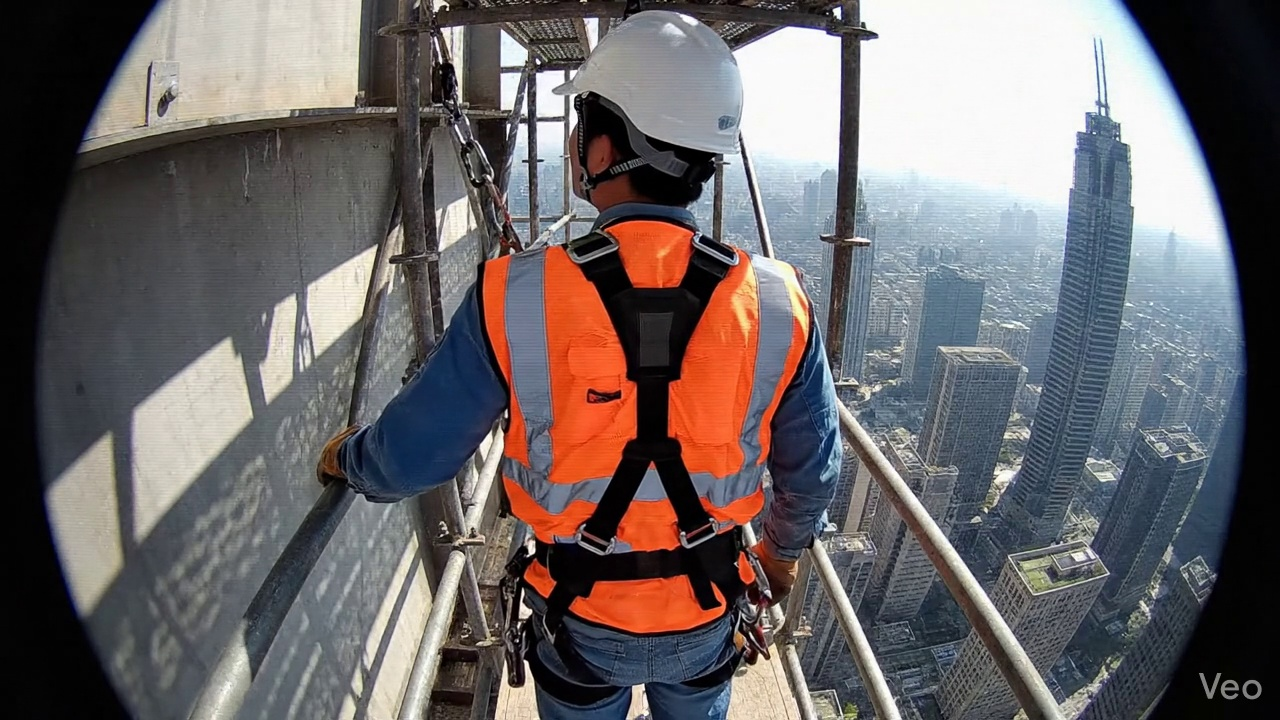person: (317, 11, 841, 719)
